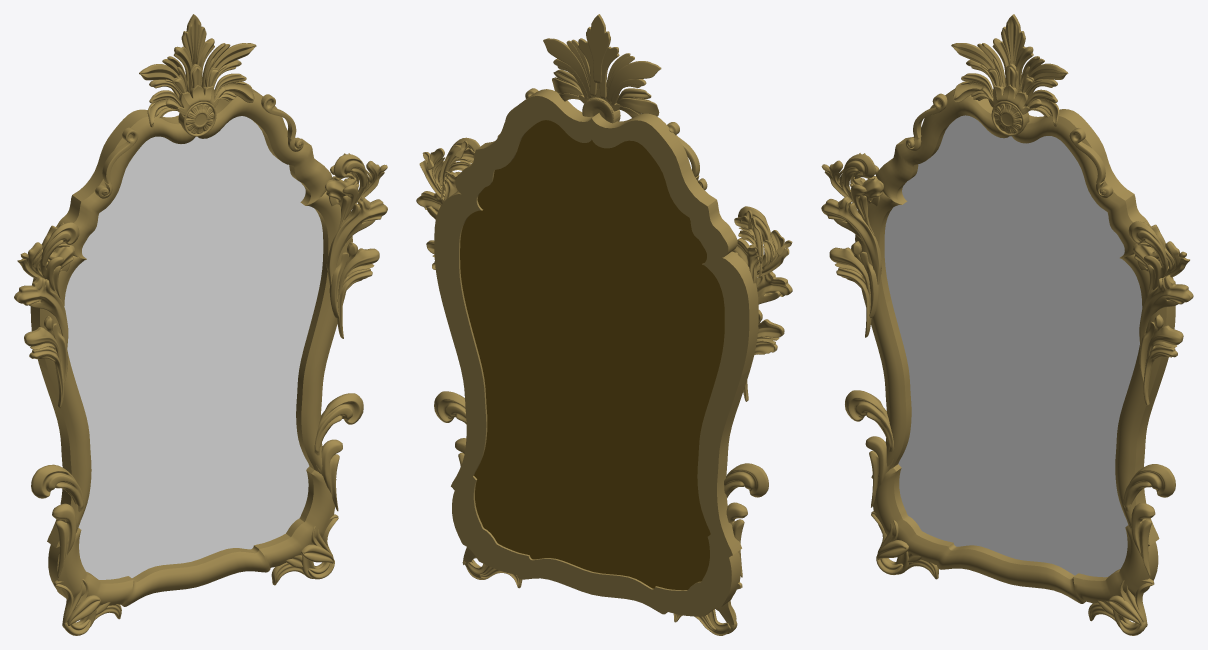
File: mirror3.glb
The picture shows the model from 3 angles, left to right: view 1: azimuth 30°, elevation 25°; view 2: azimuth 150°, elevation 25°; view 3: azimuth 330°, elevation 25°; orthographic projection.
Parts seen in each view (by area): view 1: Miroir RdC_0; view 2: Miroir RdC_0; view 3: Miroir RdC_0.
Boxes of the visible parts, x1,y1,x2,y2 form: Miroir RdC_0: [14, 14, 387, 635]; Miroir RdC_0: [416, 14, 792, 635]; Miroir RdC_0: [821, 14, 1193, 635].
Bounding box in the file's own units: 0.5422 × 0.8251 × 0.0536.
Materials: 3 (1 with a texture image).
